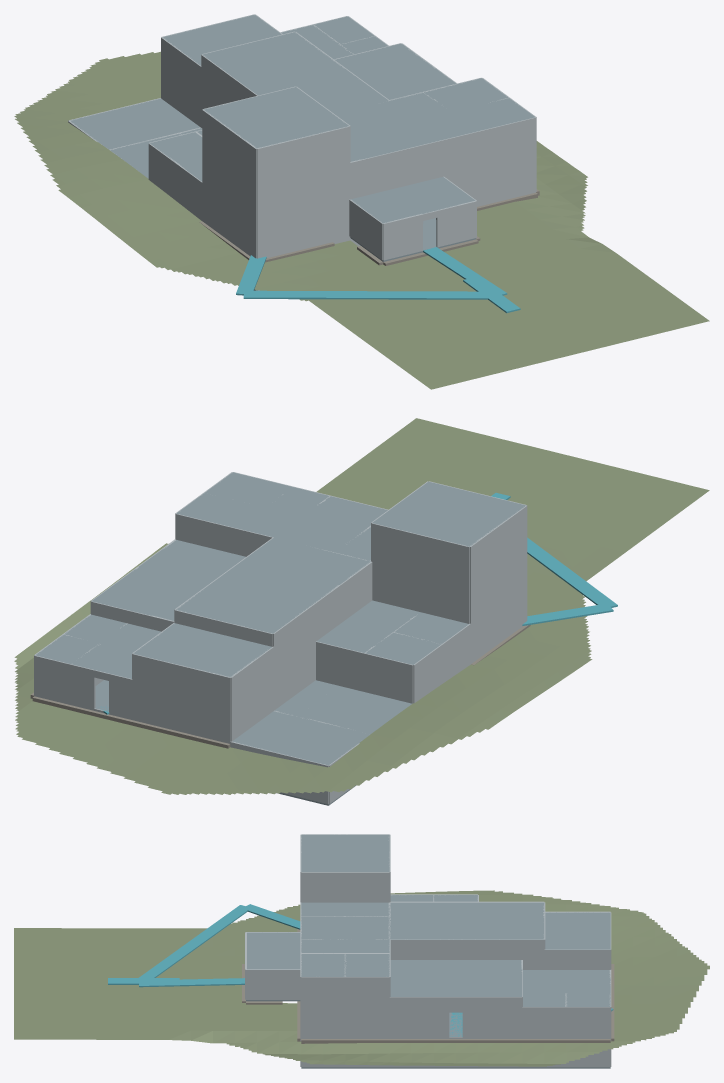
Rendered from open-circulation.glb.
3 renders of one model, top to bottom at view 1: azimuth 30°, elevation 25°; view 2: azimuth 150°, elevation 25°; view 3: azimuth 270°, elevation 25°, orthographic. The views are drawn at different scales.
Visible parts, largest first — view 1: Saved editor macroterrain CHURCH, Ceiling cap nave, Ceiling cap belfry, Ceiling cap chapel, Wall belfry S, Wall tower-stair S, Ceiling cap choir, Ceiling cap vestibule, Wall crypt-entry S, Ceiling cap chancel, Wall chancel W, Ceiling cap vault-north (+30 smaller); view 2: Saved editor macroterrain CHURCH, Ceiling cap nave, Wall chancel N, Ceiling cap chapel, Ceiling cap belfry, Wall nave W, Ceiling cap chancel, Wall belfry N, Wall tower-stair N, Ceiling cap choir, Wall chancel W, Ceiling cap vault-north (+32 smaller); view 3: Saved editor macroterrain CHURCH, Ceiling cap nave, Ceiling cap chapel, Ceiling cap belfry, Wall crypt-entry E, Wall belfry E, Ceiling cap chancel, Wall chapel E, Wall chapel E.001, Ceiling cap choir, Ceiling cap vestibule, Ceiling cap vestry (+21 smaller).
Boxes of the visible parts, bbox=[...] form: Saved editor macroterrain CHURCH: bbox=[14, 51, 709, 389]; Ceiling cap nave: bbox=[202, 32, 388, 113]; Ceiling cap belfry: bbox=[203, 87, 348, 148]; Ceiling cap chapel: bbox=[334, 43, 455, 99]; Wall belfry S: bbox=[256, 126, 350, 185]; Wall tower-stair S: bbox=[256, 163, 350, 221]; Ceiling cap choir: bbox=[335, 101, 441, 153]; Ceiling cap vestibule: bbox=[350, 177, 475, 223]; Wall crypt-entry S: bbox=[444, 154, 535, 204]; Ceiling cap chancel: bbox=[162, 14, 281, 65]; Wall chancel W: bbox=[161, 37, 201, 127]; Ceiling cap vault-north: bbox=[69, 98, 187, 140]; Saved editor macroterrain CHURCH: bbox=[14, 418, 709, 794]; Ceiling cap nave: bbox=[175, 537, 370, 633]; Wall chancel N: bbox=[132, 654, 230, 741]; Ceiling cap chapel: bbox=[92, 540, 245, 620]; Ceiling cap belfry: bbox=[372, 481, 525, 546]; Wall nave W: bbox=[273, 585, 340, 710]; Ceiling cap chancel: bbox=[133, 623, 271, 676]; Wall belfry N: bbox=[371, 523, 469, 585]; Wall tower-stair N: bbox=[372, 562, 469, 623]; Ceiling cap choir: bbox=[274, 496, 387, 552]; Wall chancel W: bbox=[230, 646, 273, 741]; Ceiling cap vault-north: bbox=[232, 721, 356, 765]; Saved editor macroterrain CHURCH: bbox=[14, 890, 709, 1066]; Ceiling cap nave: bbox=[389, 902, 544, 939]; Ceiling cap chapel: bbox=[390, 960, 522, 996]; Ceiling cap belfry: bbox=[301, 834, 389, 871]; Wall crypt-entry E: bbox=[301, 1007, 389, 1037]; Wall belfry E: bbox=[301, 872, 389, 902]; Ceiling cap chancel: bbox=[545, 912, 610, 949]; Wall chapel E: bbox=[462, 997, 522, 1037]; Wall chapel E.001: bbox=[389, 997, 449, 1037]; Ceiling cap choir: bbox=[301, 916, 389, 939]; Ceiling cap vestibule: bbox=[247, 932, 300, 969]; Ceiling cap vestry: bbox=[523, 970, 610, 992].
Bounding box in the file's own units: 36 × 12.16 × 63.
